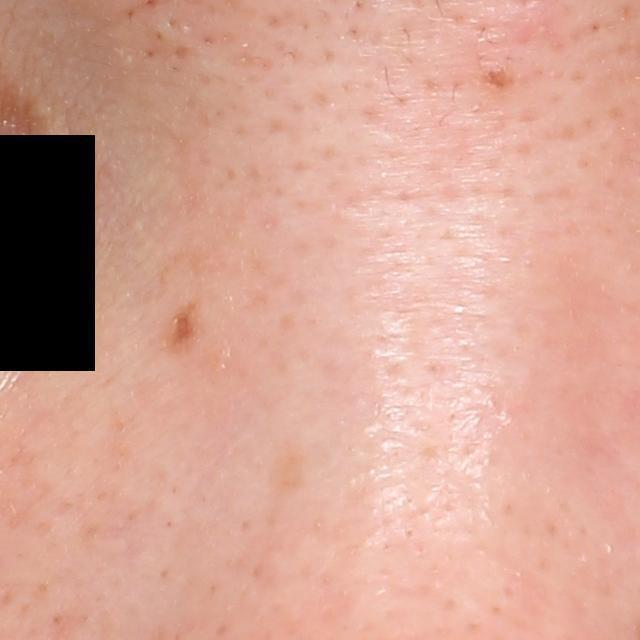nevus: (163, 296, 202, 361)
